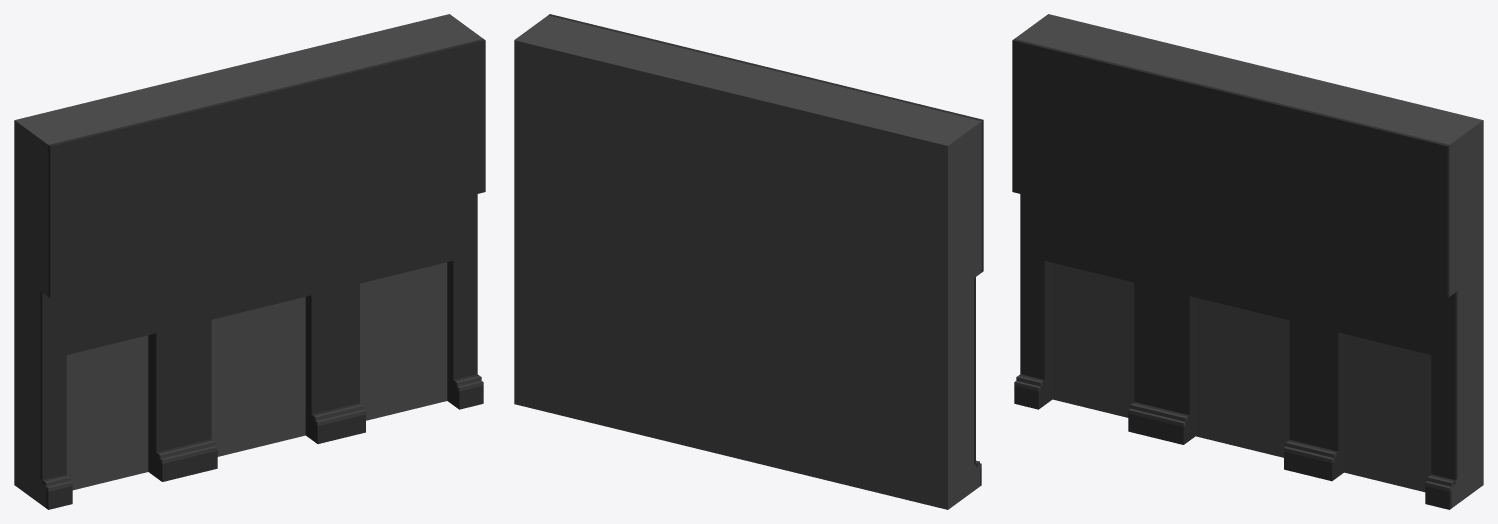
Rendered from Building_StripClub-2.obj.
3 views of the same model, side by side, from view 1: azimuth 30°, elevation 25°; view 2: azimuth 150°, elevation 25°; view 3: azimuth 330°, elevation 25° (orthographic).
Bounding box in the file's own units: 12.6 × 10.1 × 1.8.
Materials: 1 (1 with a texture image).
